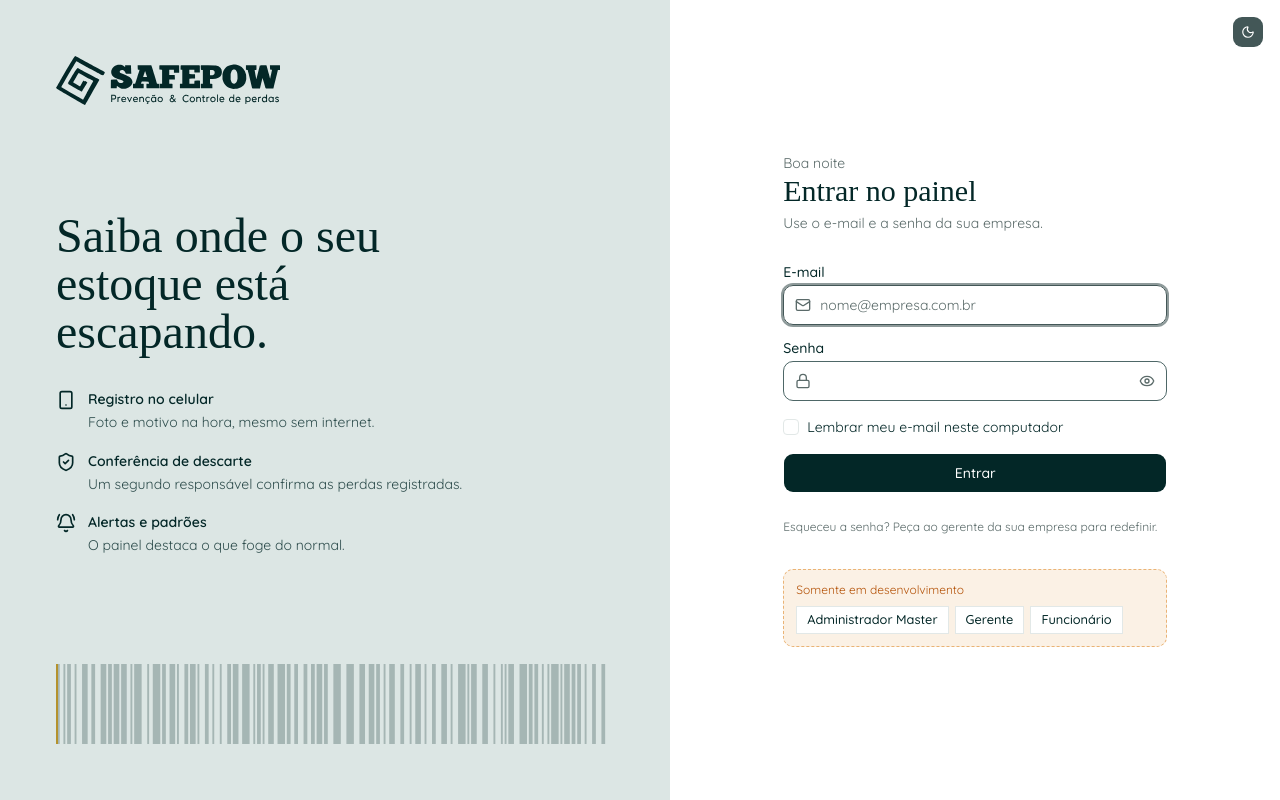
LoginPage › shows the backend message when the credentials are rejected
The width and height of the screenshot is (1280, 800).
In the field labelled "E-mail": (975, 305) [783,285,1167,325], type "ana@empresa.com.br"
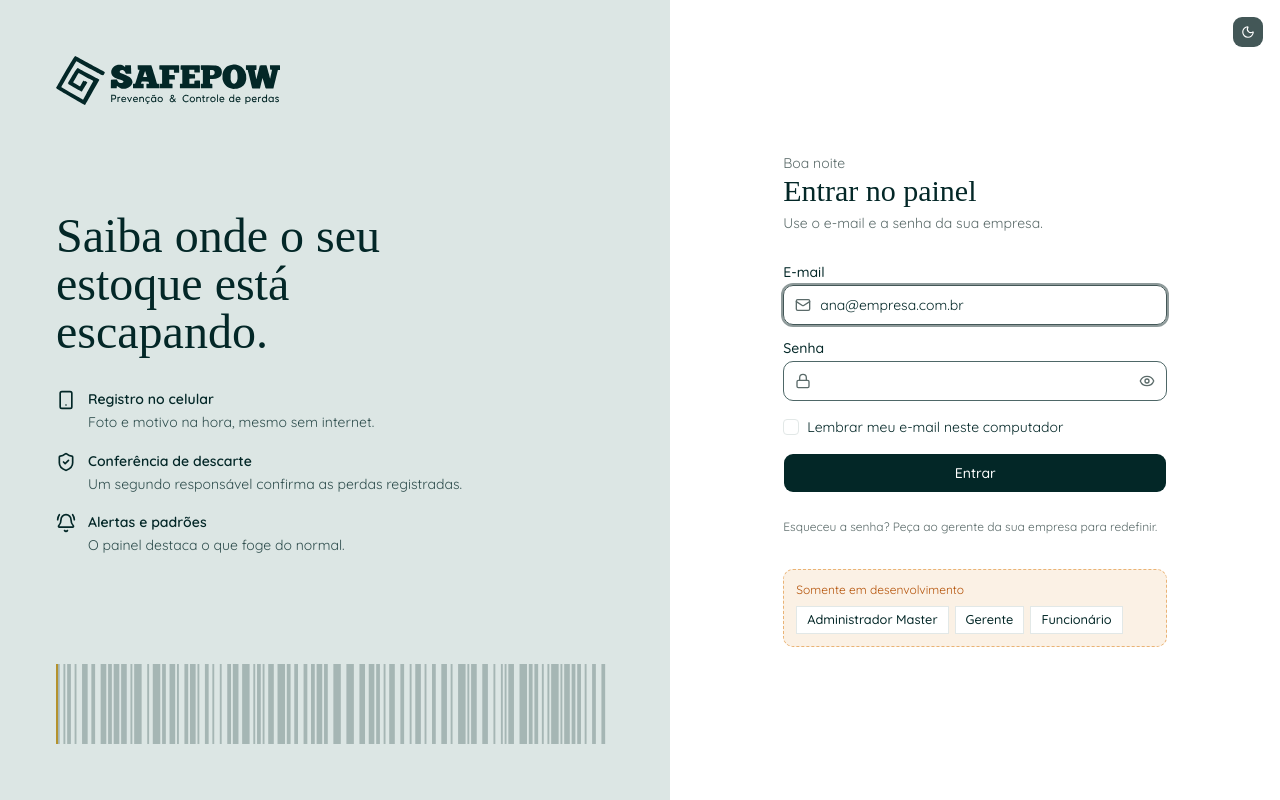
In the password field labelled "Senha": (975, 381) [783,361,1167,401], type "segredo1"
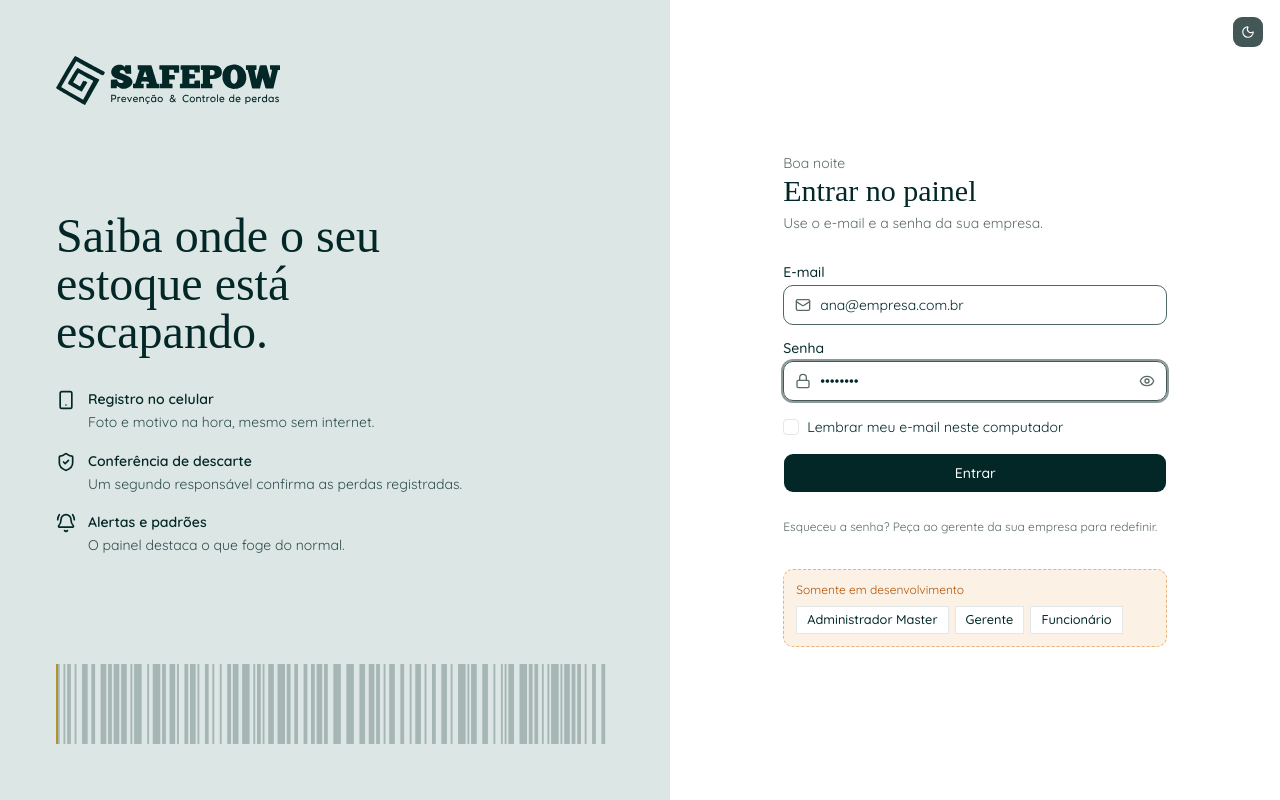
Click the button "Entrar": (975, 473) [783,453,1167,493]
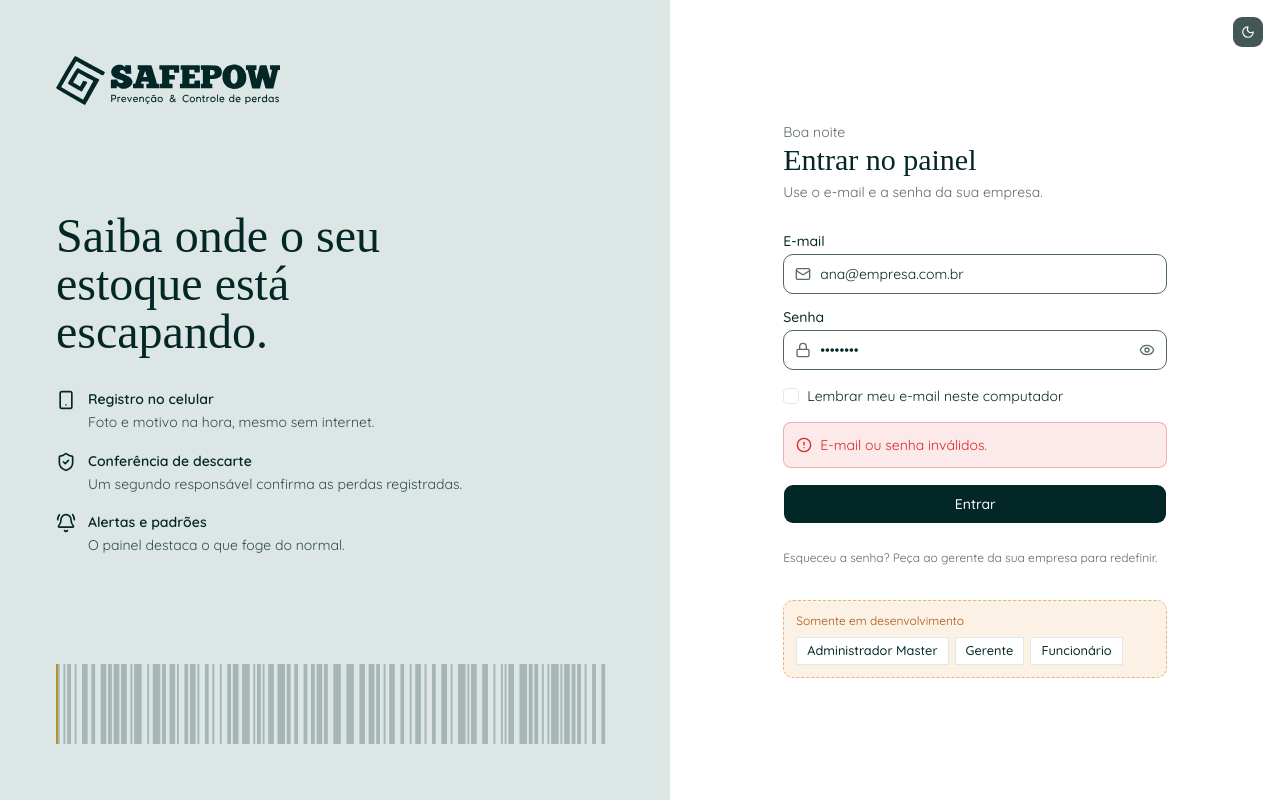
expect the message reads "E-mail ou senha inválidos.": met, box [820,436,987,454]
